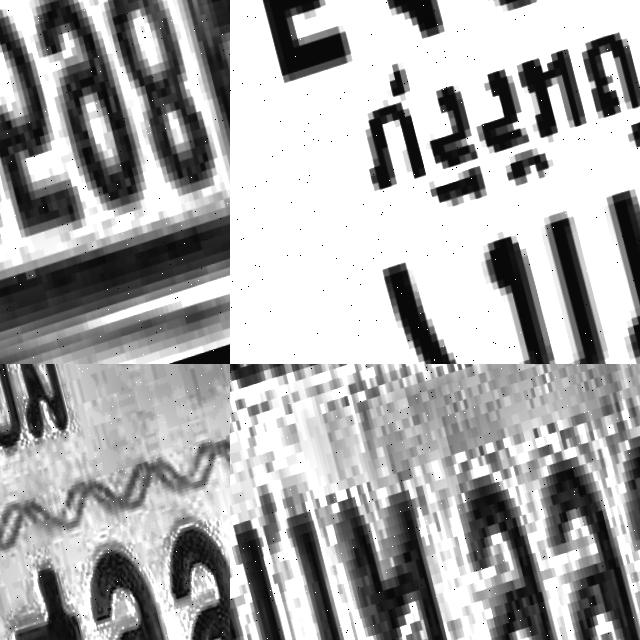license-plate: (230, 0, 640, 364), (230, 364, 640, 640), (0, 0, 230, 364), (0, 364, 230, 640)
